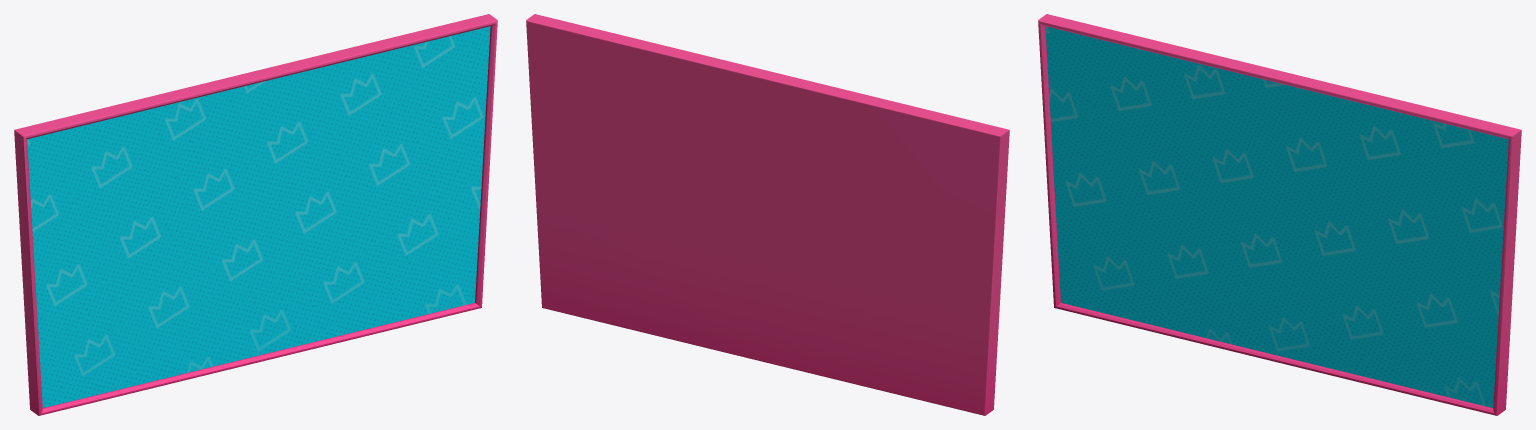
The model's file is GB_monitor.fbx.
The picture shows the model from 3 angles, left to right: view 1: azimuth 30°, elevation 25°; view 2: azimuth 150°, elevation 25°; view 3: azimuth 330°, elevation 25°; orthographic projection.
Parts seen in each view (by area): view 1: monitor; view 2: monitor; view 3: monitor.
Part boxes in pixels (bbox=[...]): monitor: bbox=[14, 14, 497, 415]; monitor: bbox=[526, 14, 1009, 415]; monitor: bbox=[1038, 14, 1521, 415].
Bounding box in the file's own units: 431 × 246 × 15.
